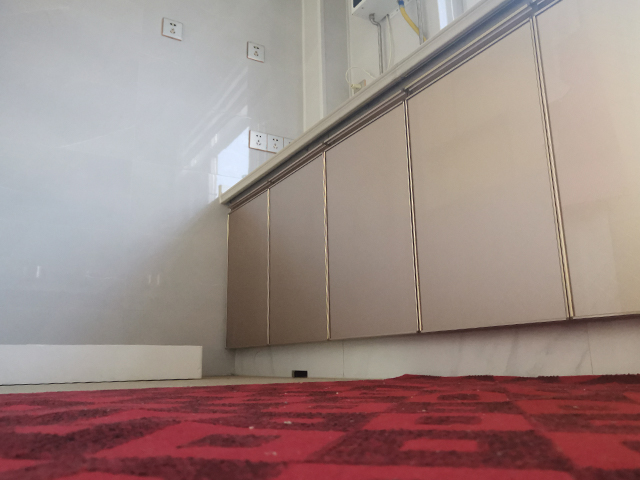cabinet: (216, 1, 640, 381)
carpet: (1, 370, 640, 480)
